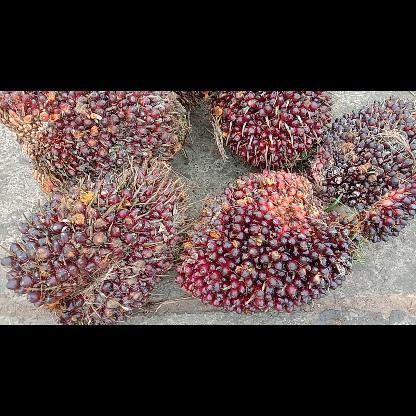Kurang masak: (0, 164, 190, 324), (176, 167, 360, 315), (0, 91, 192, 189), (306, 96, 414, 244), (206, 90, 336, 174)
